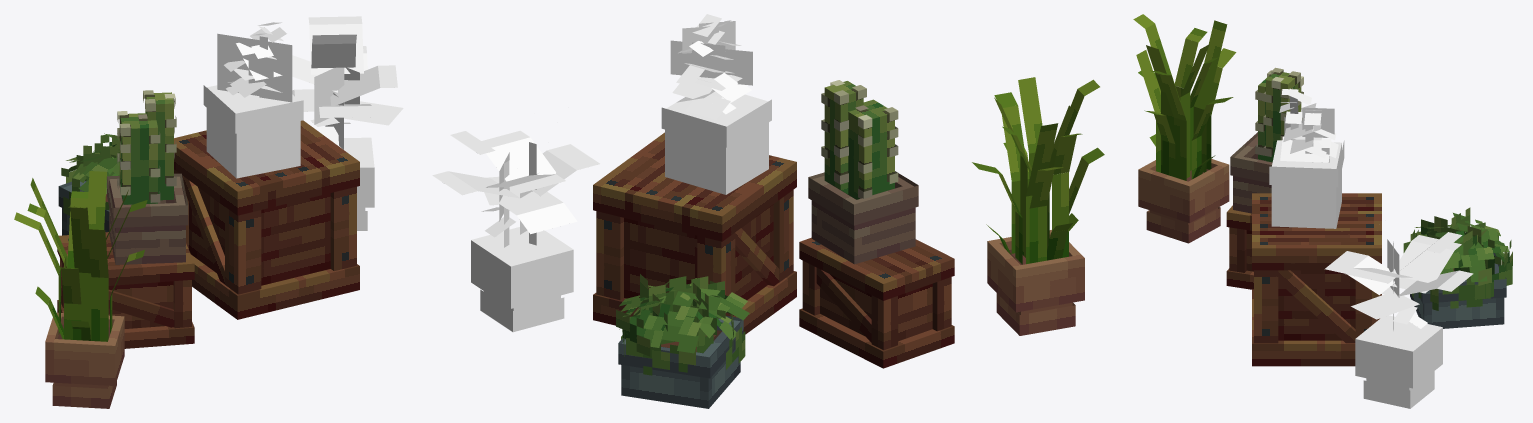
File: plant-pack-1.gltf
3 renders of one model, left to right at view 1: azimuth 30°, elevation 25°; view 2: azimuth 150°, elevation 25°; view 3: azimuth 270°, elevation 25°, orthographic. The views are drawn at different scales.
Visible parts, largest first — view 1: _gltfNode_4, _gltfNode_0, _gltfNode_129, _gltfNode_2, _gltfNode_259, _gltfNode_176, _gltfNode_12, _gltfNode_183, _gltfNode_111, _gltfNode_23, _gltfNode_10, _gltfNode_133 (+35 smaller); view 2: _gltfNode_4, _gltfNode_89, _gltfNode_0, _gltfNode_129, _gltfNode_23, _gltfNode_259, _gltfNode_176, _gltfNode_193, _gltfNode_183, _gltfNode_19, _gltfNode_35, _gltfNode_180 (+38 smaller); view 3: _gltfNode_4, _gltfNode_89, _gltfNode_259, _gltfNode_0, _gltfNode_129, _gltfNode_2, _gltfNode_193, _gltfNode_10, _gltfNode_16, _gltfNode_54, _gltfNode_133, _gltfNode_263 (+39 smaller).
Boxes of the visible parts, <box> form: _gltfNode_4: <box>174,120,359,215</box>; _gltfNode_0: <box>189,187,330,285</box>; _gltfNode_129: <box>206,85,300,178</box>; _gltfNode_2: <box>191,254,359,319</box>; _gltfNode_259: <box>45,312,124,385</box>; _gltfNode_176: <box>109,176,185,264</box>; _gltfNode_12: <box>225,207,261,294</box>; _gltfNode_183: <box>119,113,157,204</box>; _gltfNode_111: <box>217,33,292,95</box>; _gltfNode_23: <box>57,232,194,285</box>; _gltfNode_10: <box>330,186,356,270</box>; _gltfNode_133: <box>203,85,303,133</box>; _gltfNode_4: <box>593,132,796,241</box>; _gltfNode_89: <box>471,227,573,308</box>; _gltfNode_0: <box>624,204,773,300</box>; _gltfNode_129: <box>665,91,768,194</box>; _gltfNode_23: <box>799,237,954,300</box>; _gltfNode_259: <box>987,230,1084,312</box>; _gltfNode_176: <box>811,176,915,264</box>; _gltfNode_193: <box>621,318,740,408</box>; _gltfNode_183: <box>848,99,894,199</box>; _gltfNode_19: <box>799,308,954,368</box>; _gltfNode_35: <box>820,274,932,341</box>; _gltfNode_180: <box>808,172,918,225</box>; _gltfNode_4: <box>1252,193,1381,270</box>; _gltfNode_89: <box>1355,315,1442,388</box>; _gltfNode_259: <box>1138,159,1229,223</box>; _gltfNode_0: <box>1278,270,1355,340</box>; _gltfNode_129: <box>1271,140,1341,228</box>; _gltfNode_2: <box>1252,289,1381,366</box>; _gltfNode_193: <box>1410,263,1504,328</box>; _gltfNode_10: <box>1254,270,1278,343</box>; _gltfNode_16: <box>1278,270,1355,343</box>; _gltfNode_54: <box>1392,241,1454,282</box>; _gltfNode_133: <box>1269,140,1344,187</box>; _gltfNode_263: <box>1146,207,1220,243</box>.
Bounding box in the file's own units: 3.91 × 2.1 × 2.96.
6 materials, 5 textured.
